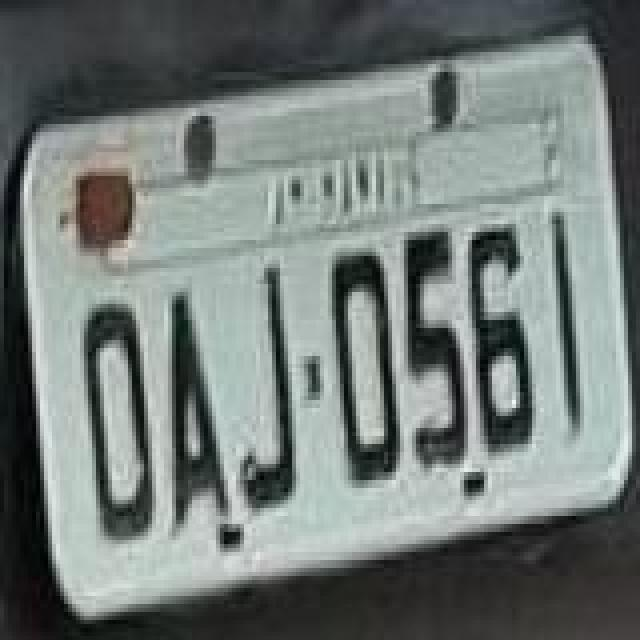1: (548, 204, 588, 444)
5: (404, 228, 468, 476)
6: (472, 232, 536, 456)
A: (170, 296, 230, 536)
J: (240, 268, 296, 516)
O: (82, 300, 158, 548), (332, 248, 404, 488)
